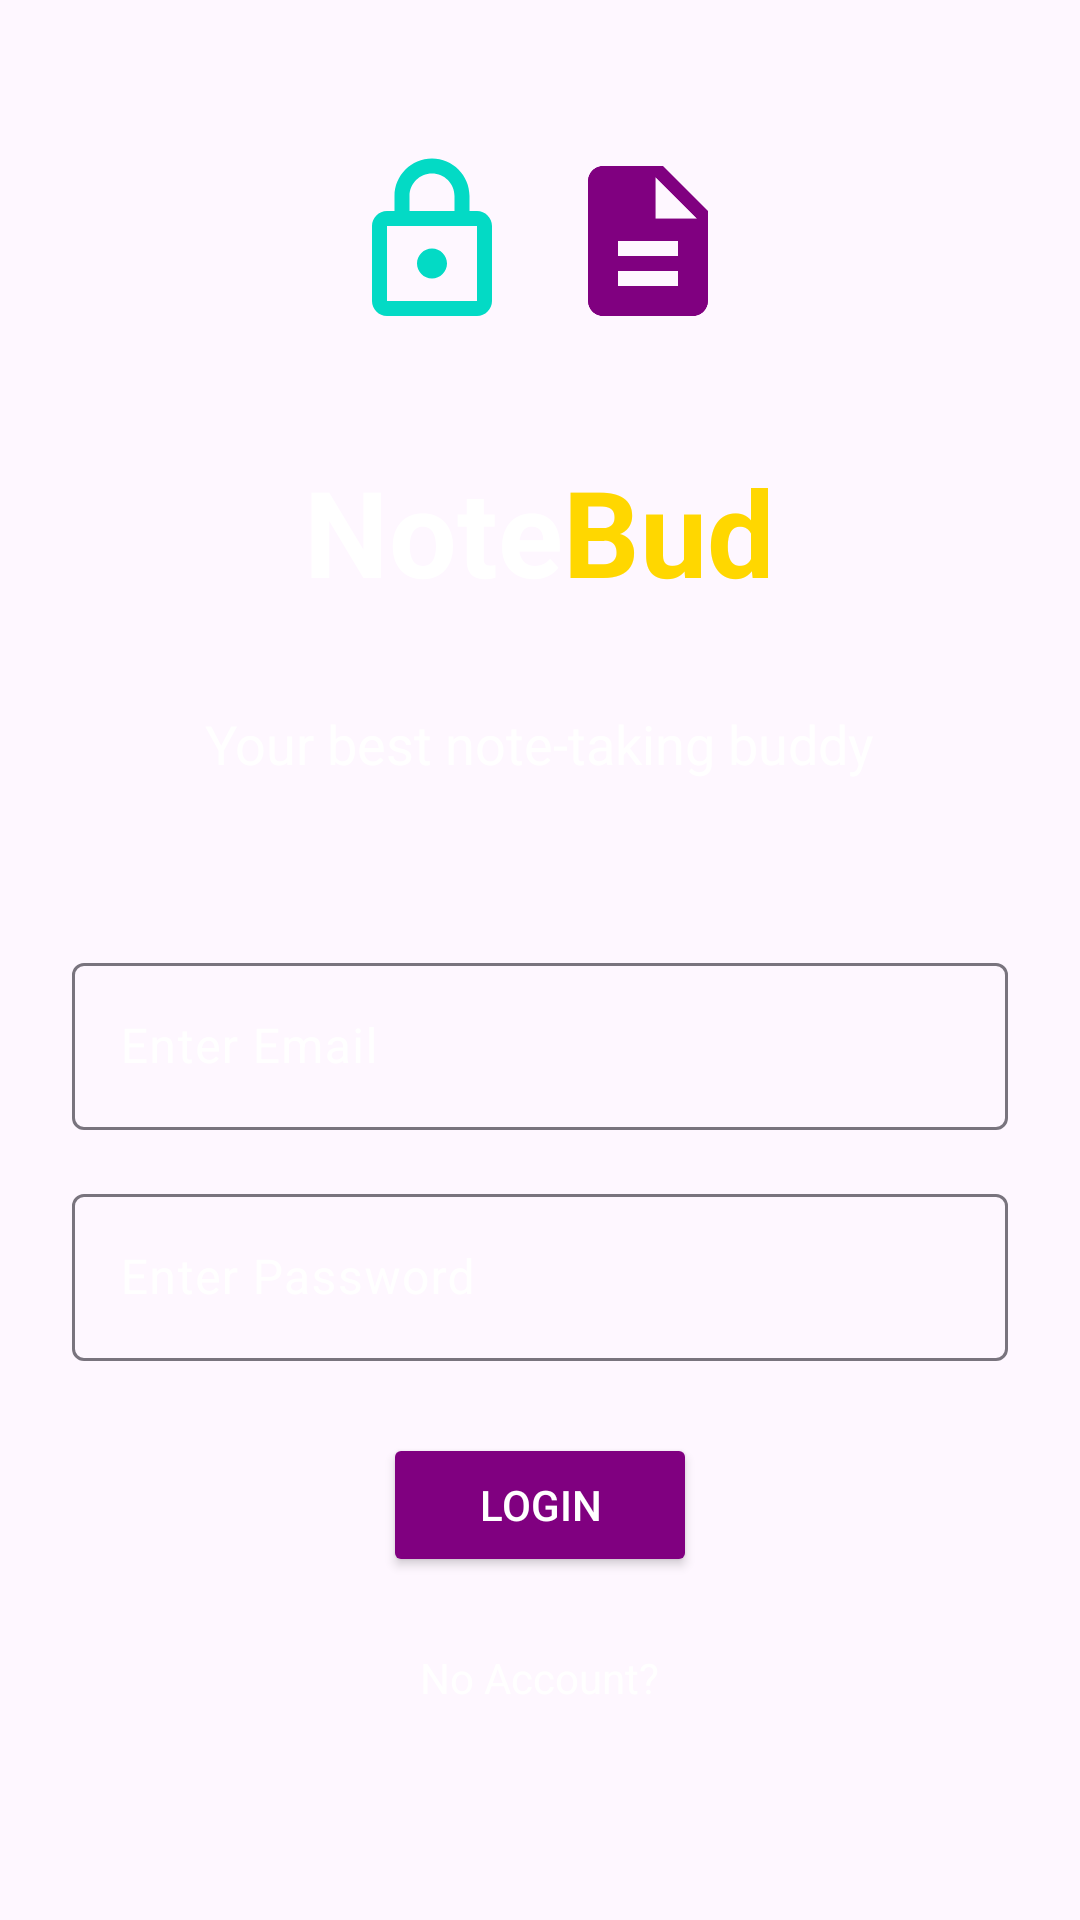

Named icons in this screenshot (1080*1920) and their centers, point (x, y):
Lock Security Icon: point (432, 237)
